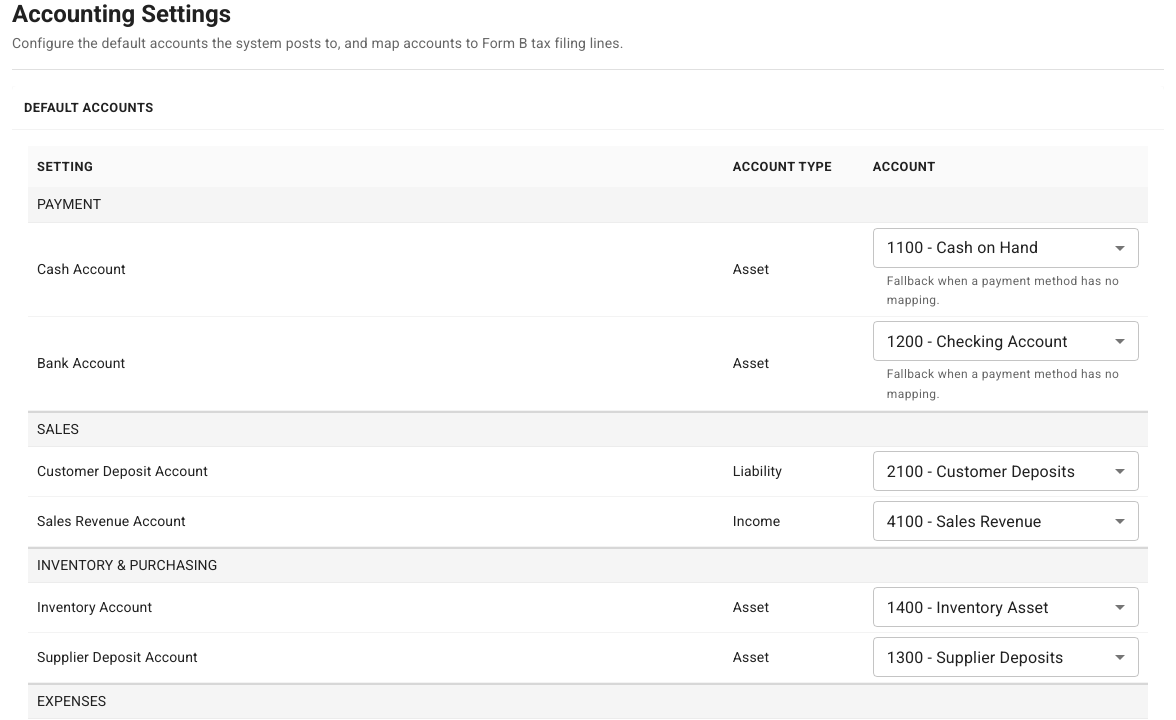
Scenario: AccountingSettingsPage › Cancel after a save restores the saved values, not the stale loaded ones
Click the dropdown named "Cash Account" at (962, 248), box [887,238,1038,257]
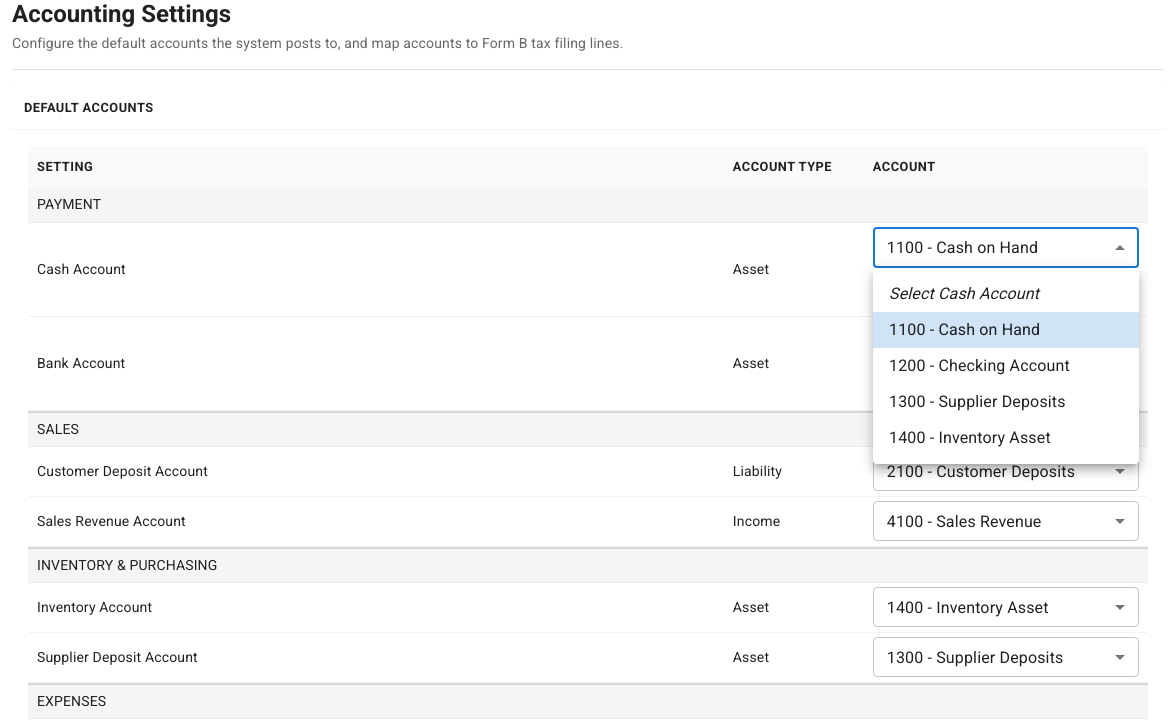
Click the option "1200 - Checking Account" at (979, 366), box [889,356,1070,375]
(page scrolled)
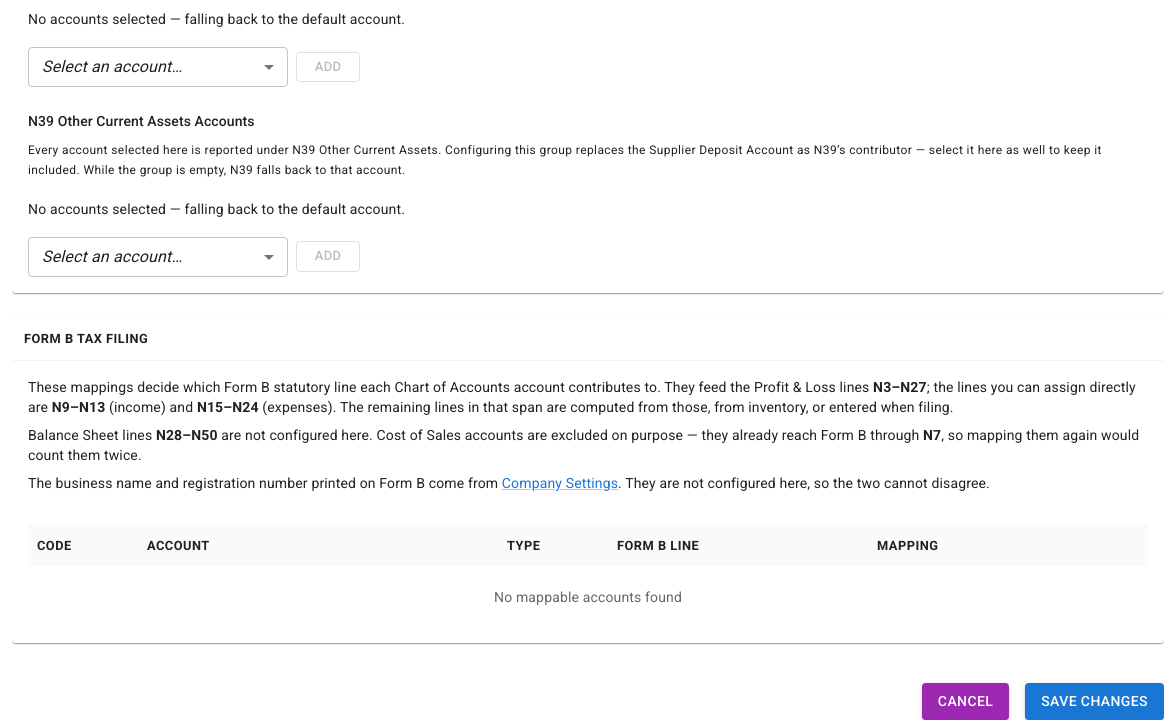
Click the button "Save Changes" at (1095, 701), box [1025,683,1164,719]
(page scrolled)
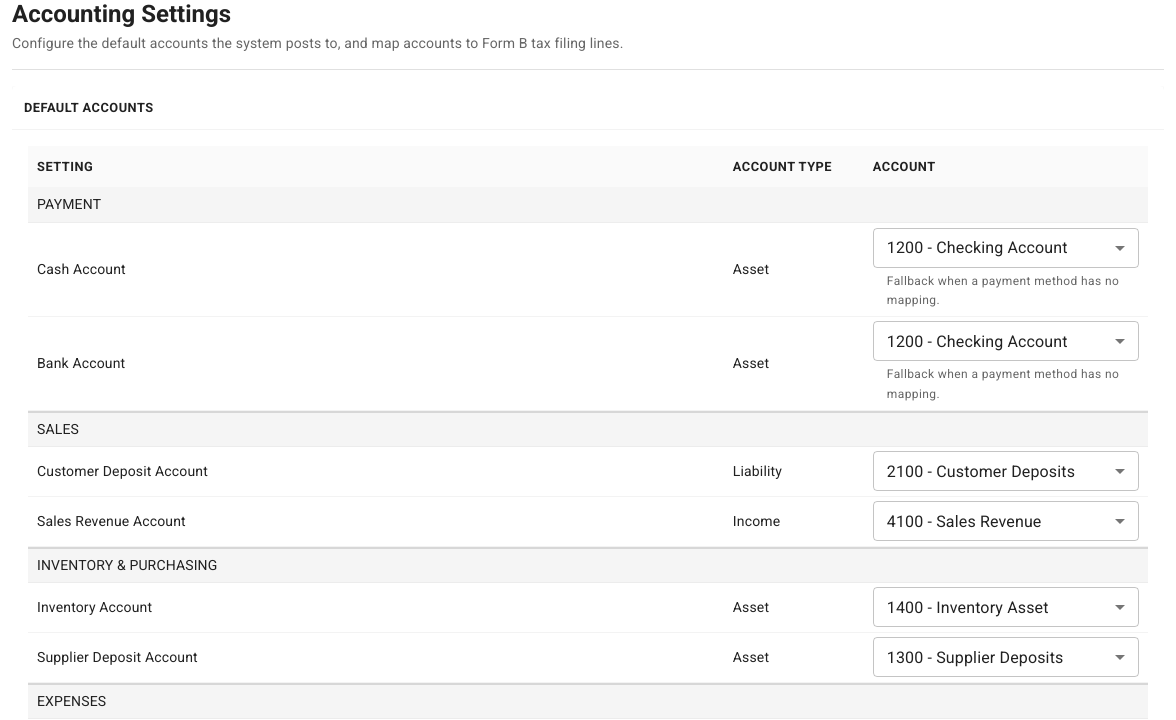
Click the dropdown named "Cash Account" at (977, 248), box [887,238,1068,257]
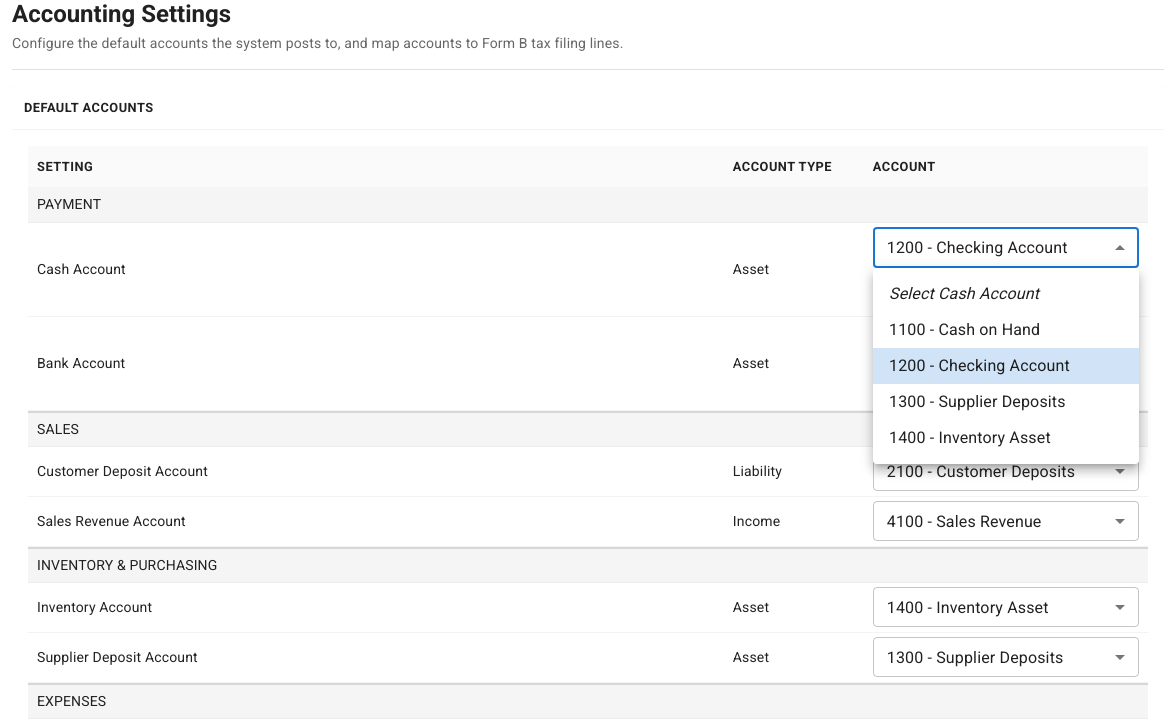
Click the option "1100 - Cash on Hand" at (965, 330), box [889,320,1040,339]
(page scrolled)
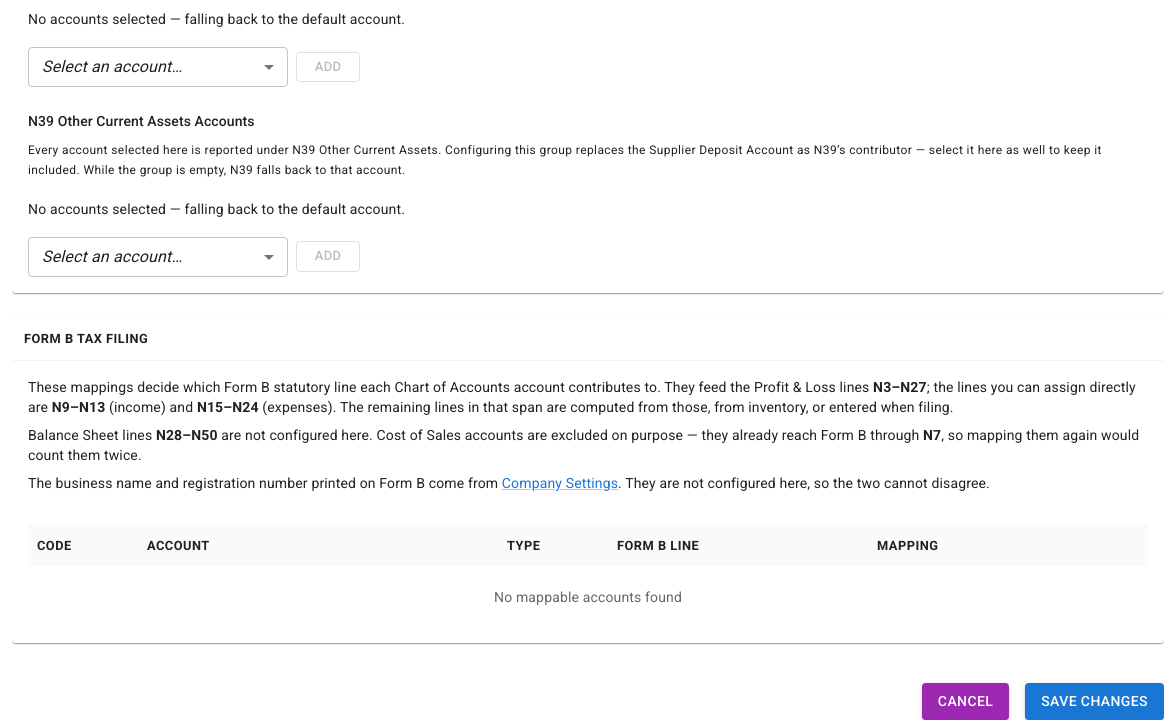
expect the button "Cancel" is enabled: met
Click the button "Cancel" at (966, 701), box [922,683,1009,719]
(page scrolled)
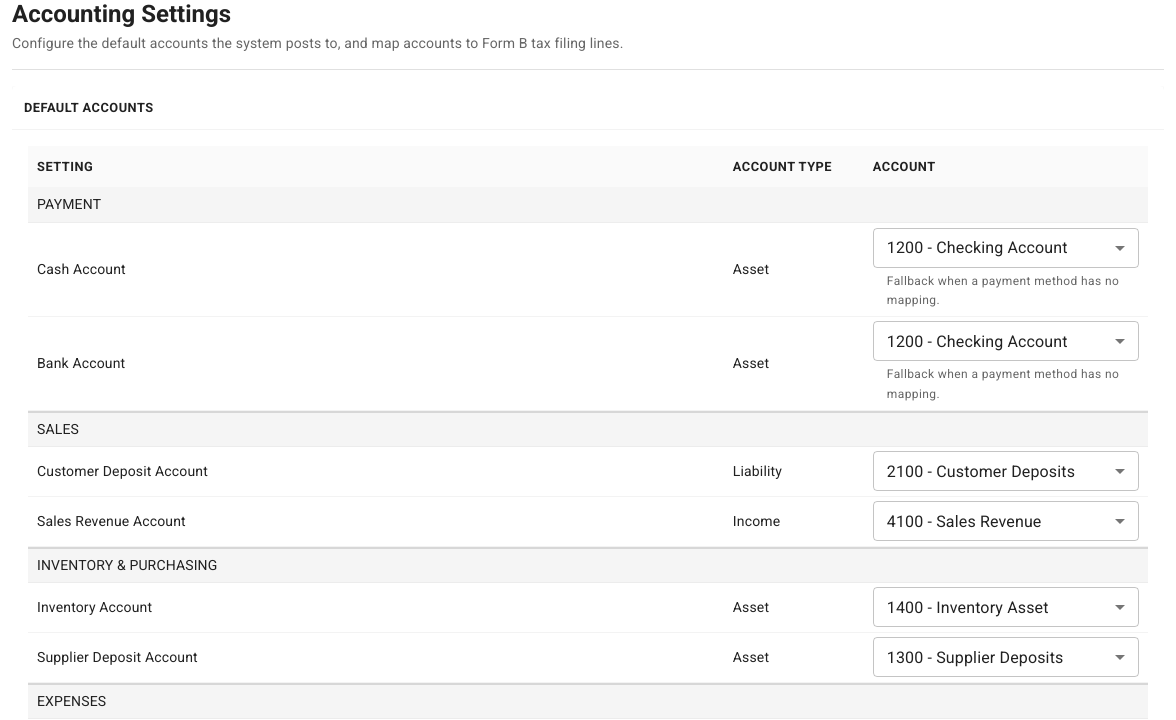
expect the dropdown named "Cash Account" reads "1200 - Checking Account": met, box [887,238,1068,257]
